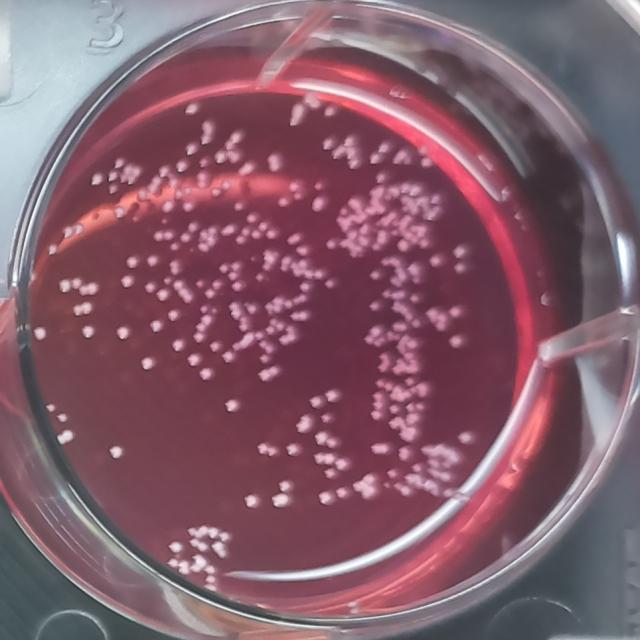StaphyloNegative: (257, 363, 284, 384), (292, 411, 315, 435), (364, 323, 385, 348), (314, 430, 340, 450), (187, 524, 219, 540), (267, 492, 295, 510), (446, 330, 470, 351), (54, 426, 76, 448), (278, 325, 300, 346), (256, 440, 280, 459), (57, 275, 83, 292), (106, 441, 126, 463), (222, 394, 242, 416), (112, 322, 133, 342), (283, 440, 304, 460), (451, 242, 472, 262), (266, 150, 284, 173), (315, 487, 336, 506), (182, 100, 204, 118), (72, 300, 94, 318), (311, 451, 337, 466), (78, 281, 102, 297), (138, 354, 157, 374), (310, 194, 330, 213), (324, 385, 344, 404), (368, 441, 393, 456), (455, 428, 477, 445), (241, 492, 261, 510), (32, 323, 49, 344), (78, 323, 97, 341), (118, 271, 136, 290), (148, 317, 167, 335), (448, 302, 467, 320), (198, 366, 217, 383), (366, 297, 384, 314), (321, 134, 338, 152), (308, 393, 327, 409), (396, 444, 412, 463), (189, 537, 208, 553), (428, 251, 445, 268), (220, 349, 237, 366), (336, 454, 352, 472), (368, 150, 384, 168), (176, 558, 191, 577), (125, 253, 142, 269), (171, 336, 187, 353), (208, 339, 225, 355), (160, 196, 175, 214), (213, 148, 228, 166), (145, 252, 161, 268), (166, 307, 182, 323), (182, 141, 198, 157), (156, 287, 172, 303), (142, 280, 158, 296), (366, 267, 383, 282), (324, 467, 341, 482), (295, 242, 312, 257), (319, 412, 337, 426), (277, 478, 295, 492), (186, 352, 202, 367), (323, 276, 338, 292), (367, 408, 384, 422), (168, 539, 183, 554), (199, 313, 214, 328), (245, 302, 260, 317), (111, 205, 125, 221), (336, 484, 350, 500), (410, 316, 424, 332), (244, 212, 260, 226), (164, 556, 180, 570), (191, 331, 206, 345), (185, 220, 200, 234), (55, 410, 70, 424), (135, 185, 147, 202), (178, 231, 192, 245), (44, 400, 58, 414), (203, 286, 216, 301), (232, 200, 247, 213), (230, 280, 243, 294), (325, 237, 338, 250), (203, 564, 218, 575), (220, 530, 232, 543), (190, 562, 202, 575), (204, 574, 217, 584)
